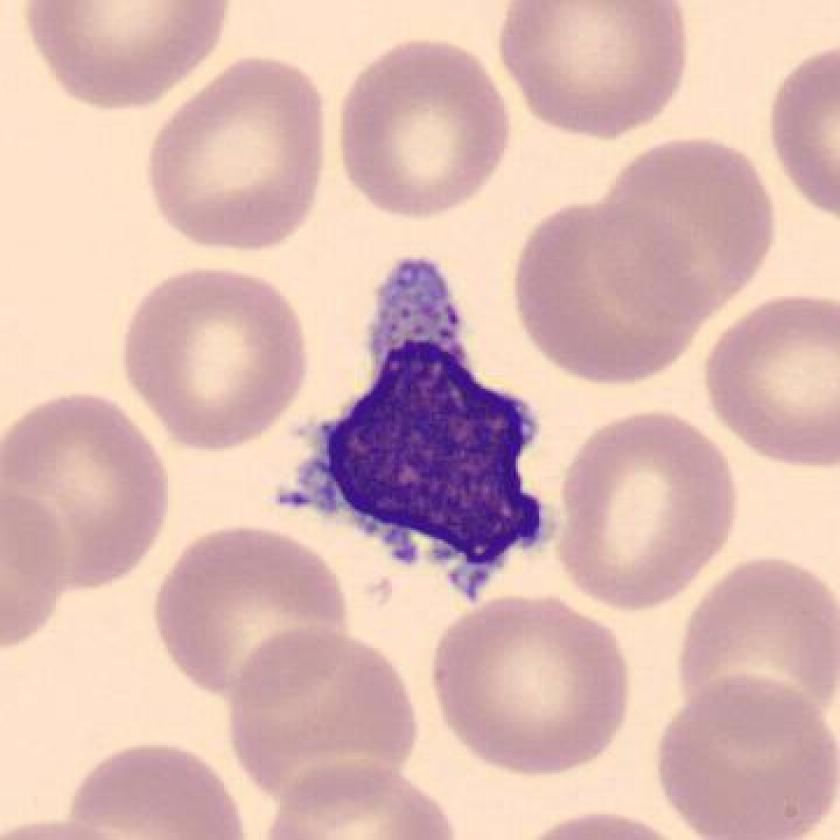lymphocyte: (262, 244, 575, 617)
